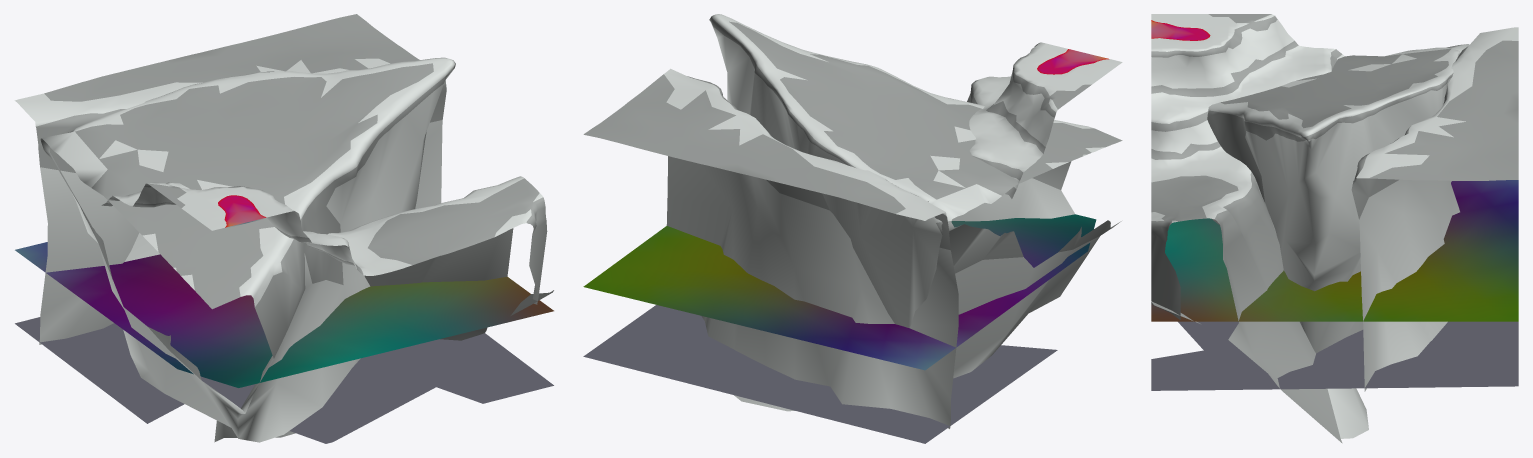
The picture shows the model from 3 angles, left to right: view 1: azimuth 30°, elevation 25°; view 2: azimuth 150°, elevation 25°; view 3: azimuth 270°, elevation 25°; orthographic projection. The views are drawn at different scales.
Parts seen in each view (by area): view 1: G:\FFXIV-MapTools\exports\r2f1\bg\ex1\01_roc_r2\fld\r2f1\bgp (×9); view 2: G:\FFXIV-MapTools\exports\r2f1\bg\ex1\01_roc_r2\fld\r2f1\bgp (×9); view 3: G:\FFXIV-MapTools\exports\r2f1\bg\ex1\01_roc_r2\fld\r2f1\bgp (×9).
Boxes of the visible parts, x1,y1,x2,y2 form: G:\FFXIV-MapTools\exports\r2f1\bg\ex1\01_roc_r2\fld\r2f1\bgp (×9): (14, 14, 553, 443); G:\FFXIV-MapTools\exports\r2f1\bg\ex1\01_roc_r2\fld\r2f1\bgp (×9): (583, 14, 1122, 443); G:\FFXIV-MapTools\exports\r2f1\bg\ex1\01_roc_r2\fld\r2f1\bgp (×9): (1151, 14, 1518, 443).
Size of the model in its own units: 128 by 125 by 128.
